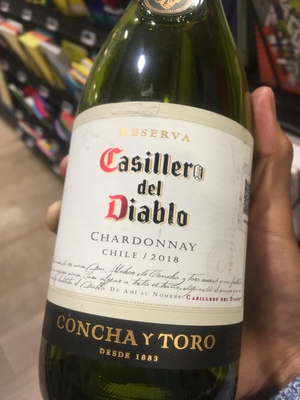casillero del diablo chardonnay: (37, 28, 251, 400)
